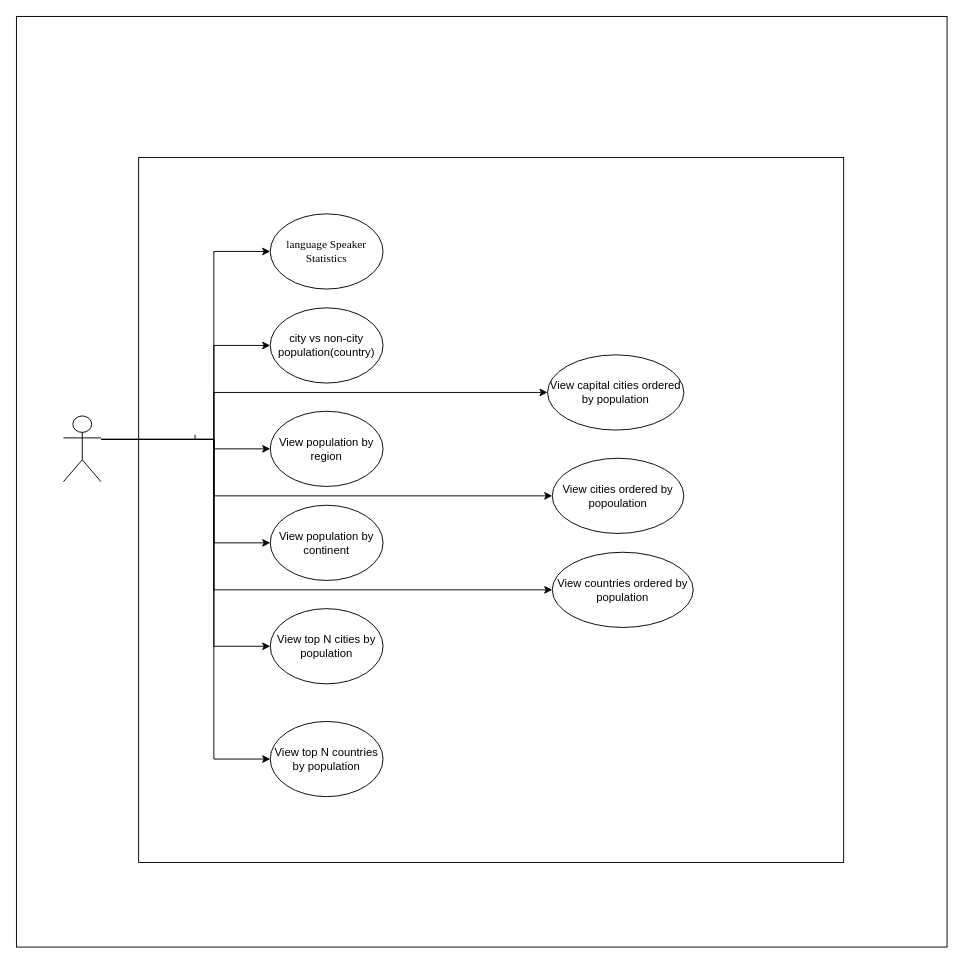
Image size: 964x964. Some labels were removed from this diagram. The box of each missing label's shape, as (x1, y1, x2, y2) in pixels:
Population Reporting System: (138, 157, 844, 862)
User: (63, 415, 101, 482)
